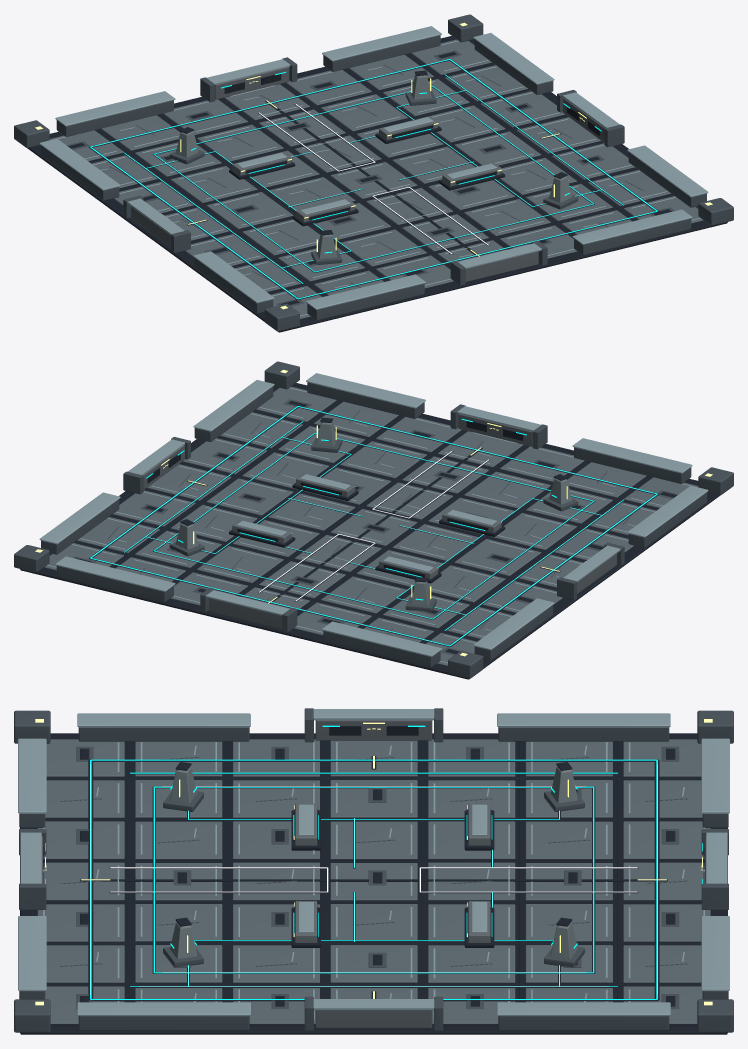
The model's file is sector_1_hd_mockup_arena.glb.
The picture shows the model from 3 angles, top to bottom: view 1: azimuth 30°, elevation 25°; view 2: azimuth 150°, elevation 25°; view 3: azimuth 270°, elevation 25°; orthographic projection. The views are drawn at different scales.
Visible parts, largest first — view 1: hd_mockup_underfloor_shadow_slab, floor_panel_R1_C4, floor_panel_R5_C4, floor_panel_R1_C2, floor_panel_R5_C2, floor_panel_R4_C1, floor_panel_R2_C1, floor_panel_R3_C1, floor_panel_R3_C4, floor_panel_R2_C3, floor_panel_R4_C3, floor_panel_R4_C5 (+75 smaller); view 2: hd_mockup_underfloor_shadow_slab, floor_panel_R3_C4, floor_panel_R5_C4, floor_panel_R1_C4, floor_panel_R5_C2, floor_panel_R1_C2, floor_panel_R3_C2, floor_panel_R2_C1, floor_panel_R4_C1, floor_panel_R3_C1, floor_panel_R3_C5, floor_panel_R2_C3 (+76 smaller); view 3: hd_mockup_underfloor_shadow_slab, floor_panel_R3_C2, floor_panel_R1_C2, floor_panel_R5_C2, floor_panel_R3_C4, floor_panel_R2_C5, floor_panel_R4_C5, floor_panel_R2_C3, floor_panel_R4_C3, floor_panel_R3_C1, floor_panel_R3_C5, floor_panel_R3_C3 (+89 smaller).
Part boxes in pixels (x1,y1,x2,y2): hd_mockup_underfloor_shadow_slab: (27, 36, 727, 332); floor_panel_R1_C4: (464, 199, 550, 236); floor_panel_R5_C4: (321, 94, 407, 131); floor_panel_R1_C2: (341, 229, 426, 266); floor_panel_R5_C2: (197, 124, 283, 161); floor_panel_R4_C1: (171, 166, 257, 203); floor_panel_R2_C1: (242, 219, 320, 255); floor_panel_R3_C1: (206, 192, 293, 229); floor_panel_R3_C4: (392, 146, 474, 183); floor_panel_R2_C3: (366, 188, 453, 225); floor_panel_R4_C3: (294, 135, 381, 172); floor_panel_R4_C5: (419, 105, 505, 142); hd_mockup_underfloor_shadow_slab: (20, 383, 720, 679); floor_panel_R3_C4: (268, 493, 355, 530); floor_panel_R5_C4: (197, 546, 283, 583); floor_panel_R1_C4: (340, 441, 426, 478); floor_panel_R5_C2: (321, 576, 406, 613); floor_panel_R1_C2: (464, 471, 550, 508); floor_panel_R3_C2: (392, 524, 478, 560); floor_panel_R2_C1: (490, 513, 576, 550); floor_panel_R4_C1: (428, 565, 505, 602); floor_panel_R3_C1: (454, 539, 541, 576); floor_panel_R3_C5: (206, 478, 293, 515); floor_panel_R2_C3: (366, 482, 453, 519); hd_mockup_underfloor_shadow_slab: (20, 733, 727, 1034); floor_panel_R3_C2: (330, 821, 417, 859); floor_panel_R1_C2: (135, 821, 222, 859); floor_panel_R5_C2: (525, 821, 612, 859); floor_panel_R3_C4: (330, 904, 417, 941); floor_panel_R2_C5: (232, 945, 319, 982); floor_panel_R4_C5: (428, 945, 515, 982); floor_panel_R2_C3: (232, 862, 319, 900); floor_panel_R4_C3: (428, 862, 515, 900); floor_panel_R3_C1: (330, 780, 417, 817); floor_panel_R3_C5: (330, 945, 417, 982); floor_panel_R3_C3: (330, 863, 417, 900).
Size of the model in its own units: 59 by 3.84 by 59.
